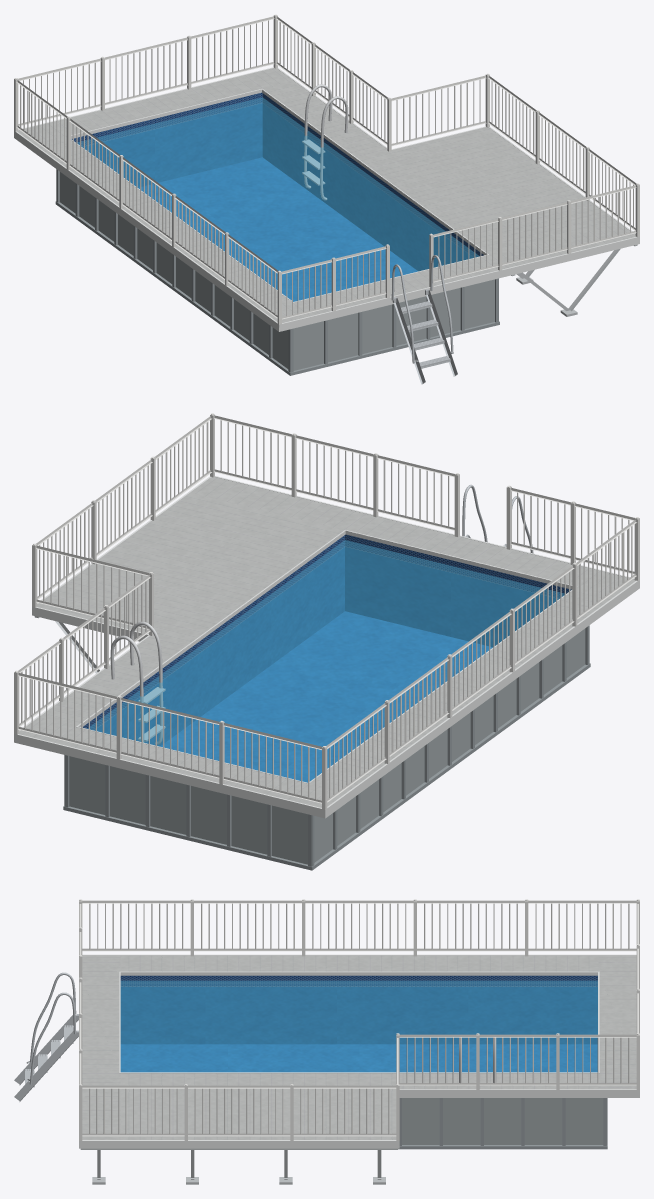
File: kayak-pool-12x24-gray-l-ag-fence.3694c124b8.glb
The picture shows the model from 3 angles, top to bottom: view 1: azimuth 30°, elevation 25°; view 2: azimuth 150°, elevation 25°; view 3: azimuth 270°, elevation 25°; orthographic projection. The views are drawn at different scales.
Parts seen in each view (by area): view 1: water, deck, fence, liner_wall, liner_floor, wall, fascia, upright, ladder, steel, stud; view 2: water, deck, fence, liner_wall, liner_floor, wall, fascia, upright, steel; view 3: water, deck, liner_wall, fence, liner_floor, fascia, wall, ladder, upright, stud.
Part boxes in pixels (x1,y1,x2,y2): water: (77, 97, 479, 301); deck: (17, 68, 635, 327); fence: (14, 14, 639, 331); liner_wall: (71, 92, 483, 271); liner_floor: (138, 157, 417, 301); wall: (60, 172, 494, 370); fascia: (14, 67, 639, 331); upright: (55, 169, 499, 375); ladder: (391, 255, 457, 384); steel: (302, 84, 348, 200); stud: (511, 244, 637, 316); water: (87, 540, 564, 782); deck: (19, 477, 635, 807); fence: (14, 413, 639, 809); liner_wall: (83, 534, 571, 746); liner_floor: (160, 611, 492, 782); wall: (69, 628, 585, 864); fascia: (14, 476, 639, 818); upright: (63, 625, 590, 870); steel: (110, 621, 165, 745); water: (120, 980, 597, 1072); deck: (82, 955, 636, 1139); liner_wall: (120, 975, 597, 1044); fence: (79, 899, 639, 1140); liner_floor: (120, 1044, 597, 1072); fascia: (79, 954, 639, 1148); wall: (402, 1098, 603, 1144); ladder: (14, 972, 78, 1101); upright: (398, 1098, 607, 1149); stud: (80, 1148, 397, 1184).
Size of the model in its own units: 6.71 by 2.15 by 9.52.
Materials: 11 (3 with a texture image).
